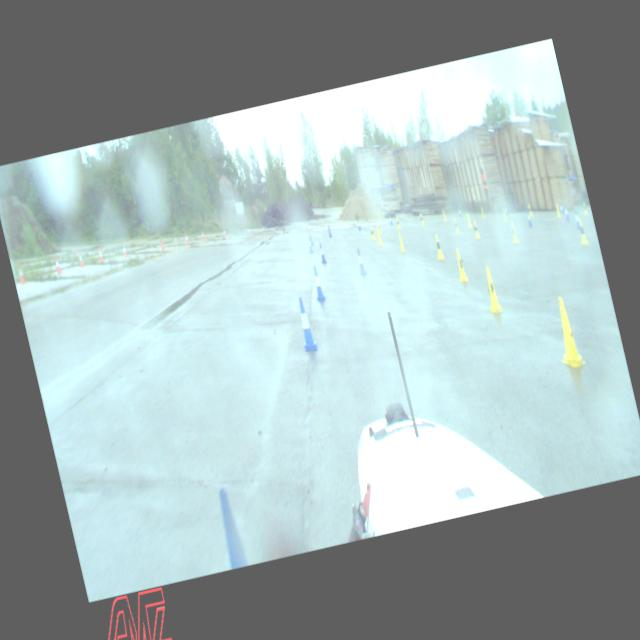blue_cone: (213, 487, 248, 569), (292, 296, 318, 352), (309, 264, 326, 301), (354, 248, 366, 276), (316, 240, 327, 264), (572, 207, 581, 230), (304, 236, 314, 253), (524, 209, 533, 227), (306, 228, 314, 246), (562, 203, 570, 220), (558, 202, 565, 215), (356, 217, 362, 231), (326, 224, 332, 237), (502, 202, 508, 214), (458, 206, 462, 218), (388, 213, 392, 225)
orange_cone: (16, 263, 26, 284), (53, 254, 62, 274), (76, 249, 84, 267), (120, 242, 128, 257), (97, 246, 104, 262), (183, 232, 189, 245), (200, 228, 206, 240), (159, 238, 164, 250), (222, 226, 226, 236)
yellow_cone: (546, 293, 586, 371), (480, 266, 502, 314), (452, 248, 468, 283), (575, 217, 588, 245), (432, 234, 443, 258), (508, 220, 518, 242), (396, 232, 405, 253), (472, 219, 481, 239), (464, 212, 472, 228), (452, 216, 459, 233), (375, 229, 382, 245), (440, 208, 448, 222), (500, 206, 507, 222), (554, 202, 561, 218), (581, 201, 588, 216), (368, 224, 375, 238), (527, 203, 533, 217), (418, 212, 424, 226), (480, 206, 486, 219), (394, 216, 400, 228), (376, 221, 381, 234)
